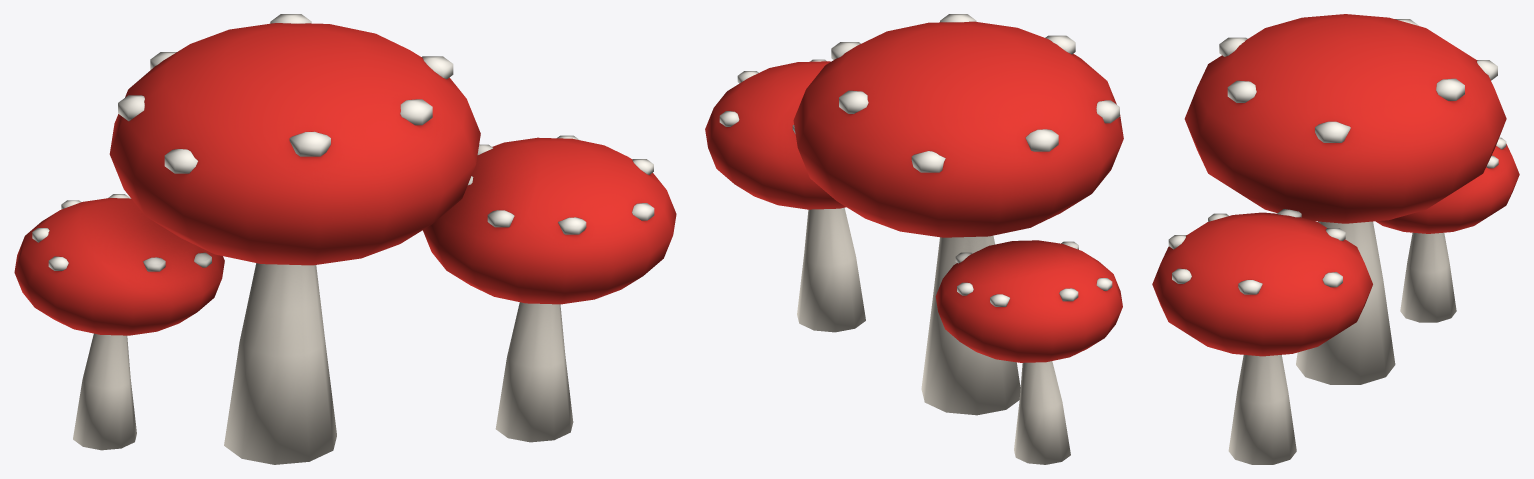
The model's file is Env_Mushroom_1.glb.
3 renders of one model, left to right at view 1: azimuth 30°, elevation 25°; view 2: azimuth 150°, elevation 25°; view 3: azimuth 270°, elevation 25°, orthographic. The views are drawn at different scales.
Parts seen in each view (by area): view 1: Env_Mushroom_1.001; view 2: Env_Mushroom_1.001; view 3: Env_Mushroom_1.001.
Boxes of the visible parts, x1,y1,x2,y2 form: Env_Mushroom_1.001: (14,14,676,464); Env_Mushroom_1.001: (705,14,1123,464); Env_Mushroom_1.001: (1152,14,1519,464).
Size of the model in its own units: 1.4 by 0.9636 by 0.9655.
1 material, 1 textured.
